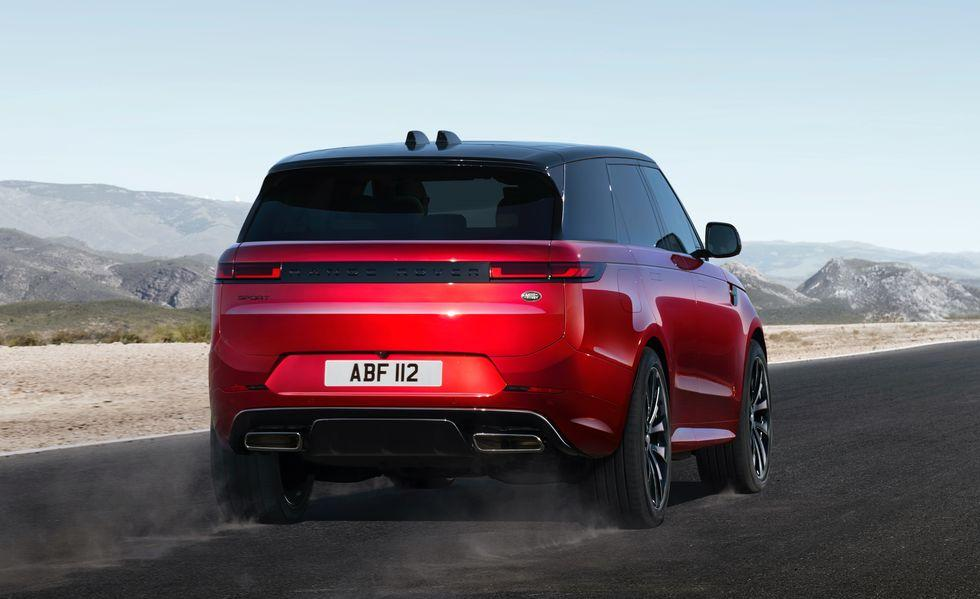range rover: (279, 258, 490, 285)
